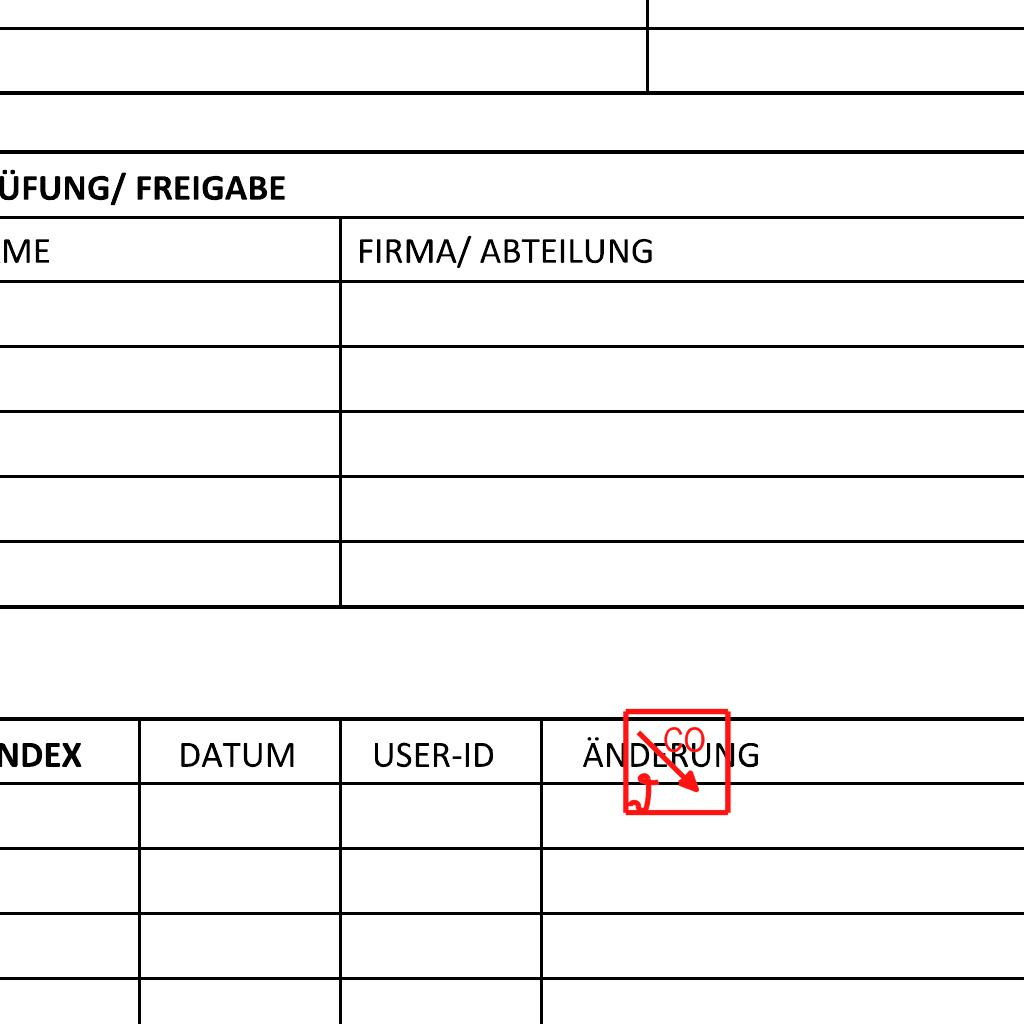ROA_Rauchmelder_optisch_mit_Signalgeber_(Sockelsirene): (621, 707, 734, 820)
